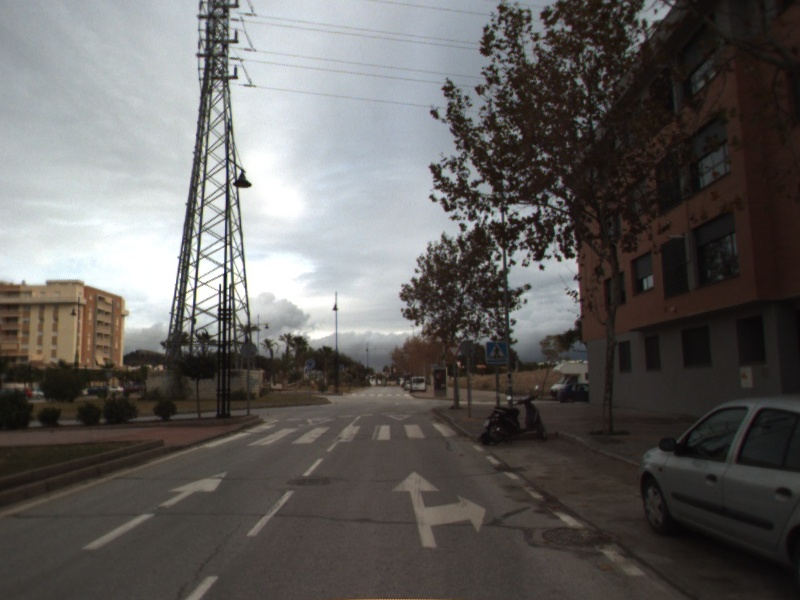STRAIGHT: (80, 470, 229, 552)
STRAIGHT_RIGHT: (389, 469, 488, 550)
